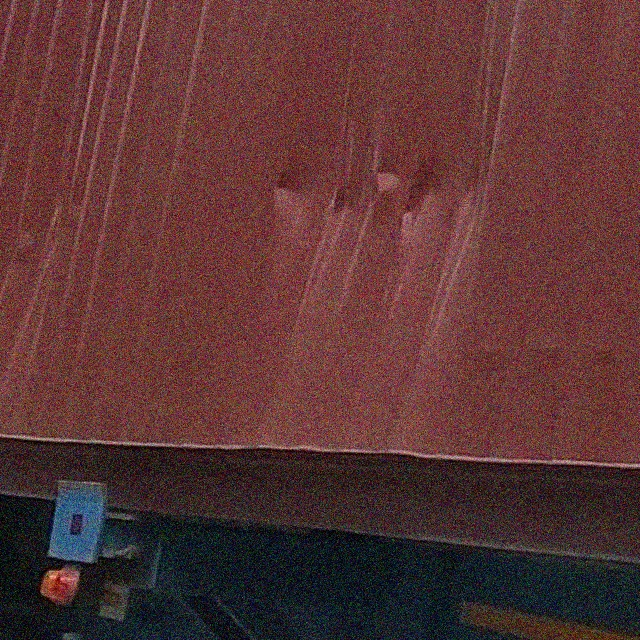Dent: (260, 13, 521, 343)
